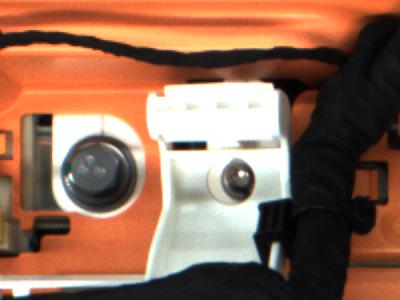nut_b: (60, 140, 151, 216)
screw_m: (219, 155, 263, 203)
